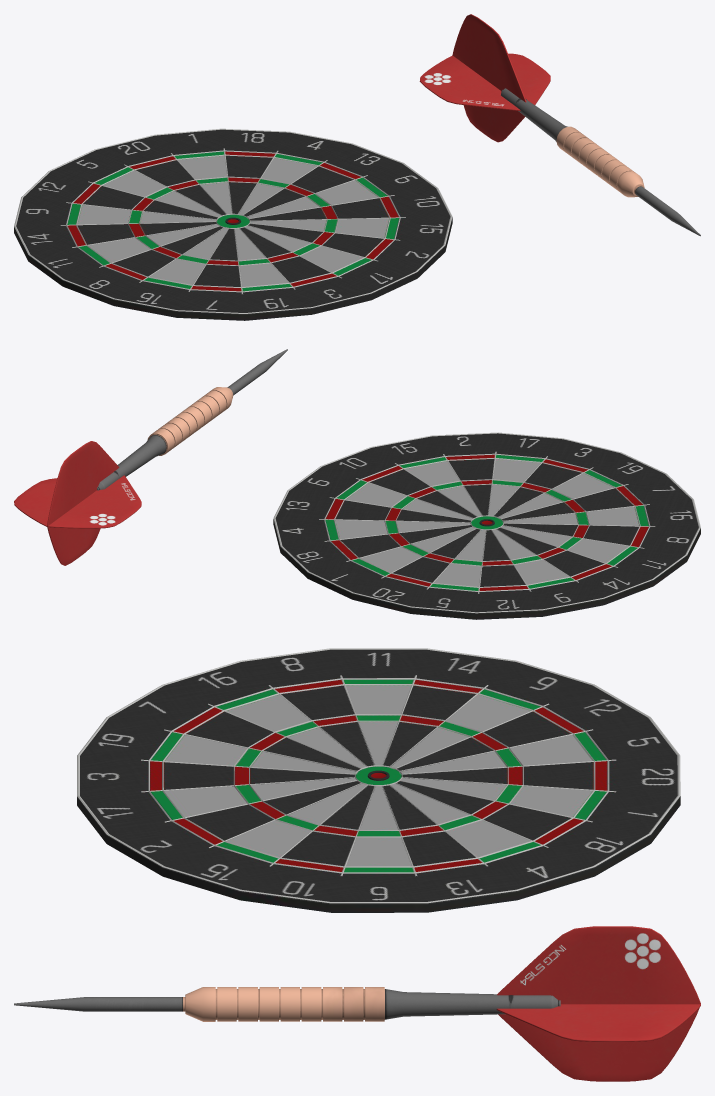
Rendered from darts-game.fbx.
3 renders of one model, top to bottom at view 1: azimuth 30°, elevation 25°; view 2: azimuth 150°, elevation 25°; view 3: azimuth 270°, elevation 25°, orthographic. The views are drawn at different scales.
Visible parts, largest first — view 1: darts, wing.001, arrow, wing; view 2: darts, wing.001, wing, arrow; view 3: darts, wing.001, arrow, wing.
Part boxes in pixels (x1=…): darts: x1=14, y1=128, x2=452, y2=320; wing.001: x1=452, y1=14, x2=526, y2=142; arrow: x1=501, y1=88, x2=700, y2=236; wing: x1=419, y1=53, x2=550, y2=111; darts: x1=273, y1=432, x2=700, y2=619; wing.001: x1=47, y1=441, x2=119, y2=565; wing: x1=14, y1=475, x2=141, y2=528; arrow: x1=97, y1=349, x2=287, y2=490; darts: x1=77, y1=648, x2=680, y2=912; wing.001: x1=497, y1=926, x2=700, y2=1081; arrow: x1=14, y1=987, x2=560, y2=1021; wing: x1=496, y1=1004, x2=700, y2=1041.
Bounding box in the file's own units: 488 × 90.07 × 361.
Materials: 1 (1 with a texture image).
